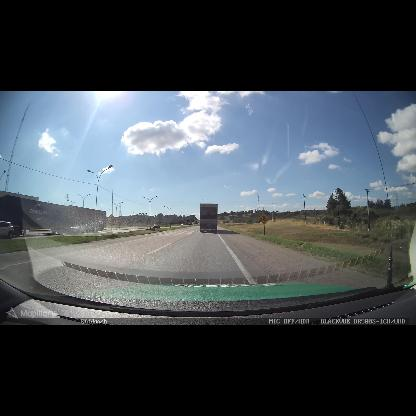A-32b: (258, 213, 269, 225)
